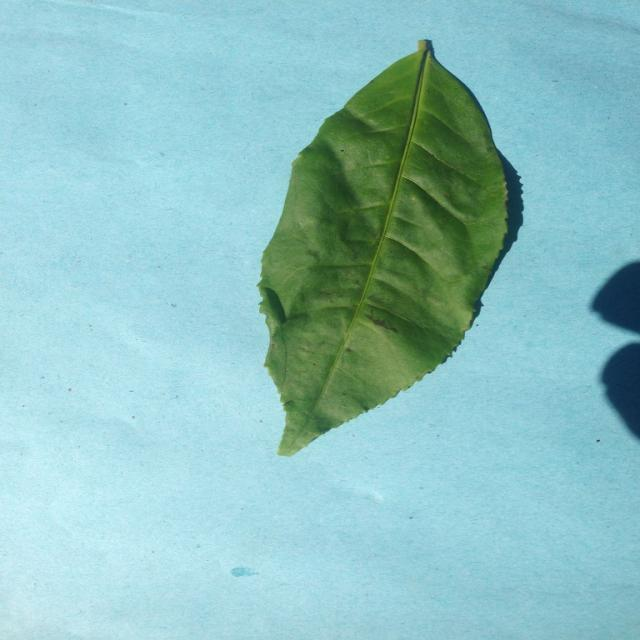Healthy: (212, 26, 595, 507)
